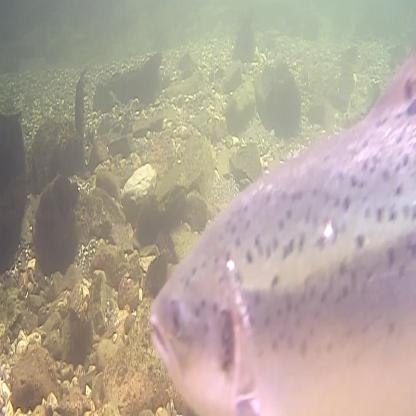salmon: (147, 34, 414, 415)
